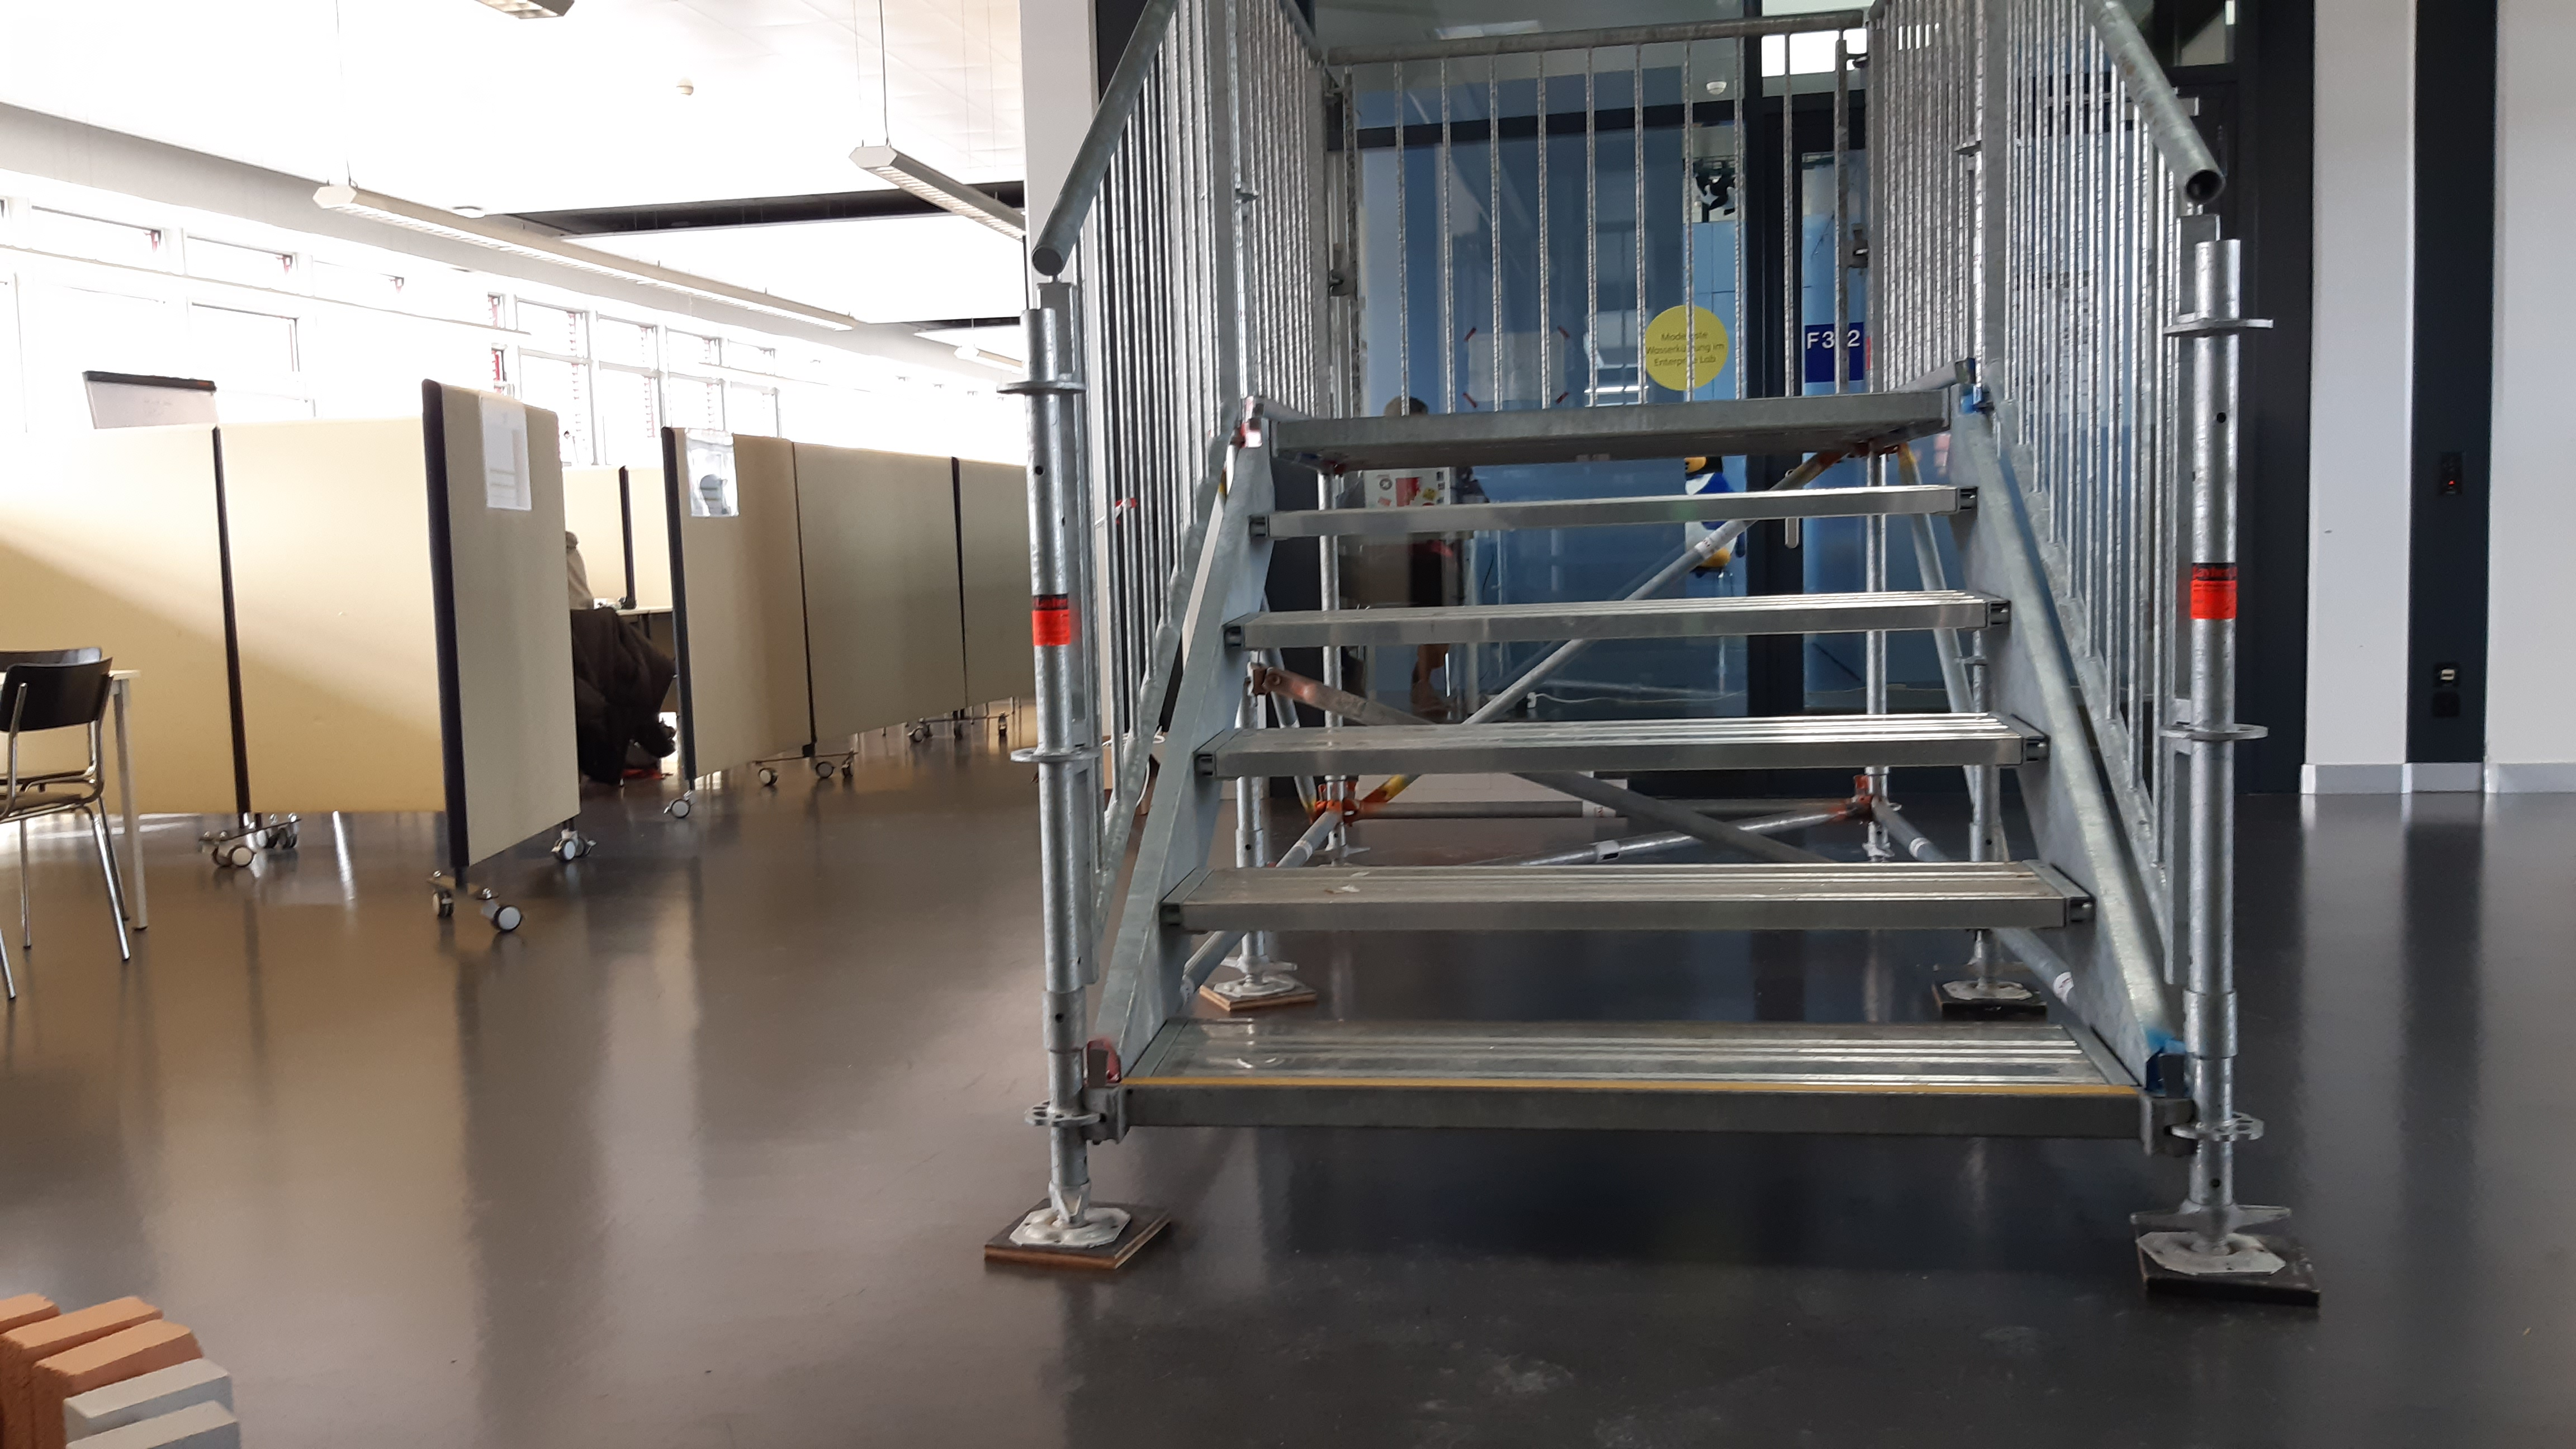edge: (1136, 1072, 2137, 1131), (1267, 391, 1948, 451), (1221, 596, 2010, 648), (1246, 485, 1978, 538), (1194, 732, 2054, 773), (1152, 897, 2091, 934)
stairs: (978, 2, 2321, 1313)
steps: (1127, 386, 2143, 1136)
